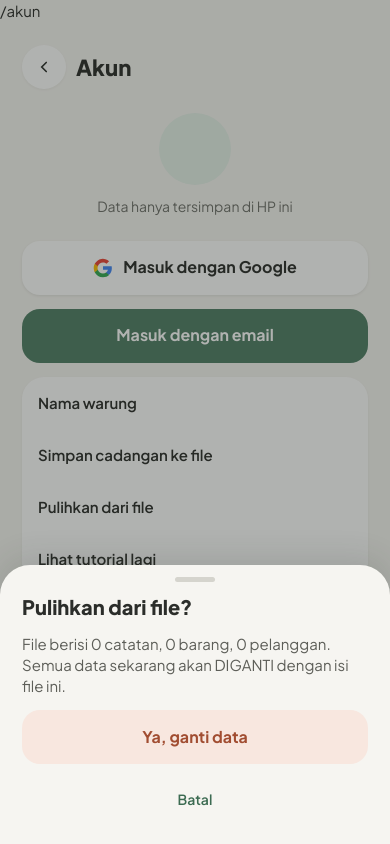
Test: Akun › file bukan cadangan ditolak; file benar minta persetujuan
Earlier steps of the test are not shown.
Expected: the dialog "Pulihkan dari file?" shows "0 catatan", top-left (91, 634), bottom-right (326, 653)
Click the button "Ya, ganti data". click: x=195, y=737
box: top-left (22, 710), bottom-right (368, 764)
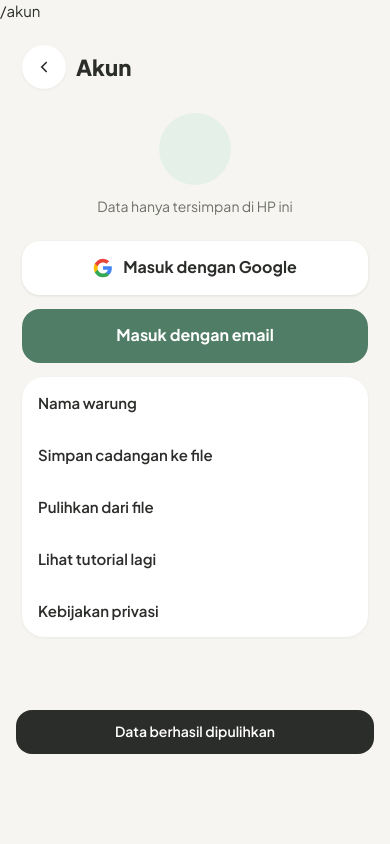
Expected: the dialog is gone
